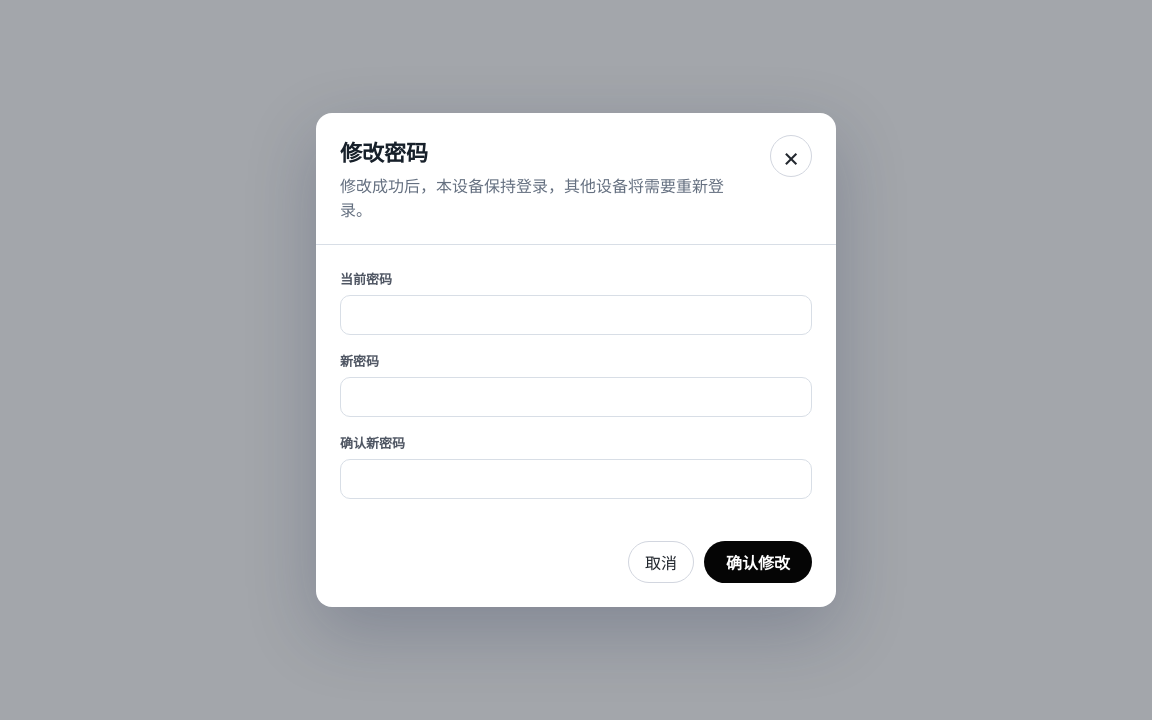
两次输入的新密码不一致时不发请求，并显示提示
The image size is (1152, 720).
Type "old-pass" into the password field labelled "当前密码". click: (576, 315)
box: 340,295 -> 812,335
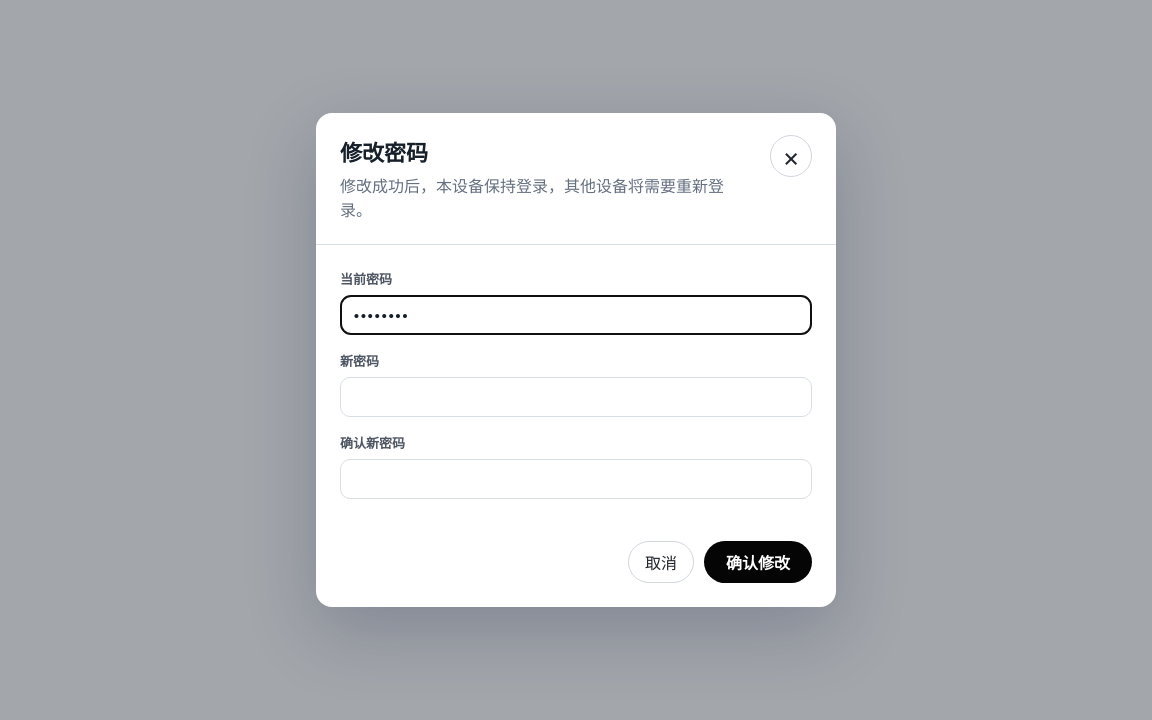
Type "new-pass-1" into the password field labelled "新密码". click: (576, 397)
box: 340,377 -> 812,417
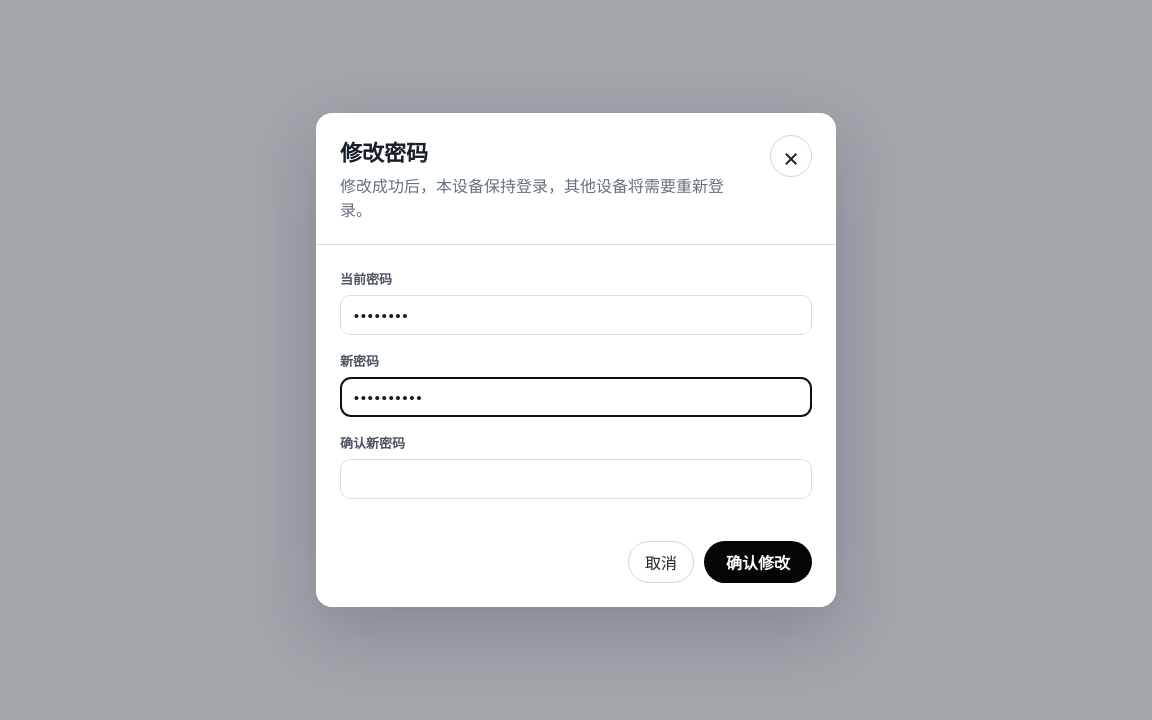
Type "new-pass-2" into the password field labelled "确认新密码". click: (576, 479)
box: 340,459 -> 812,499
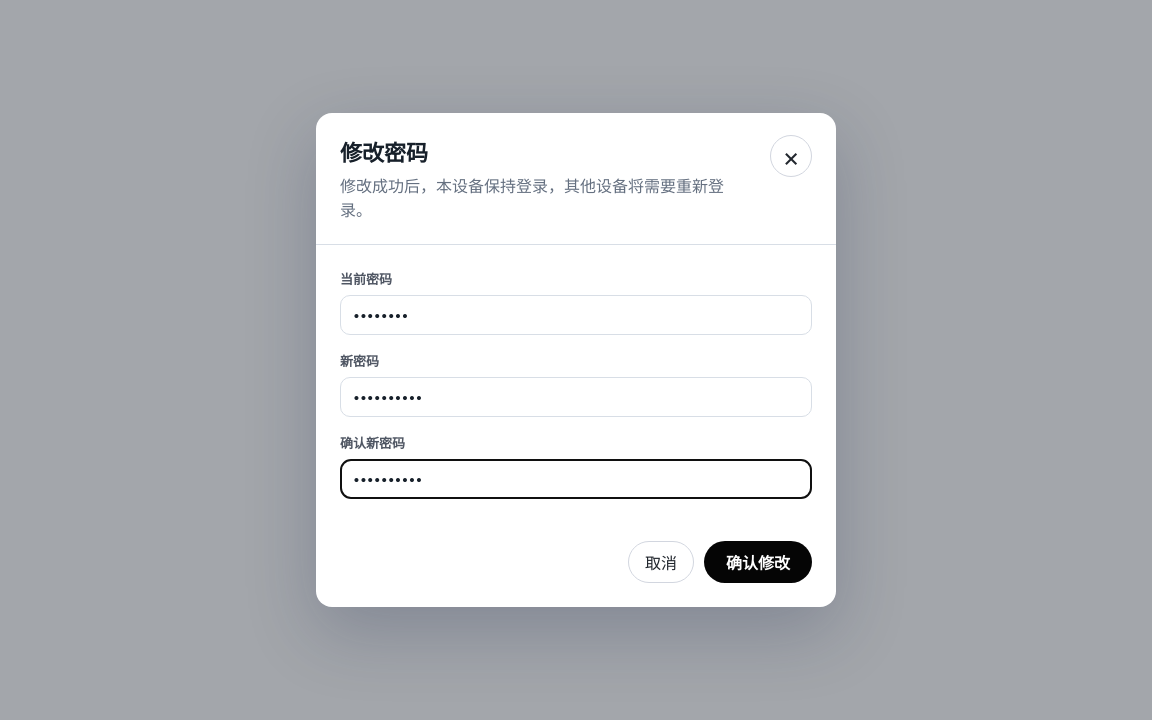
Click the button "确认修改". click: (758, 562)
box: 704,541 -> 812,583
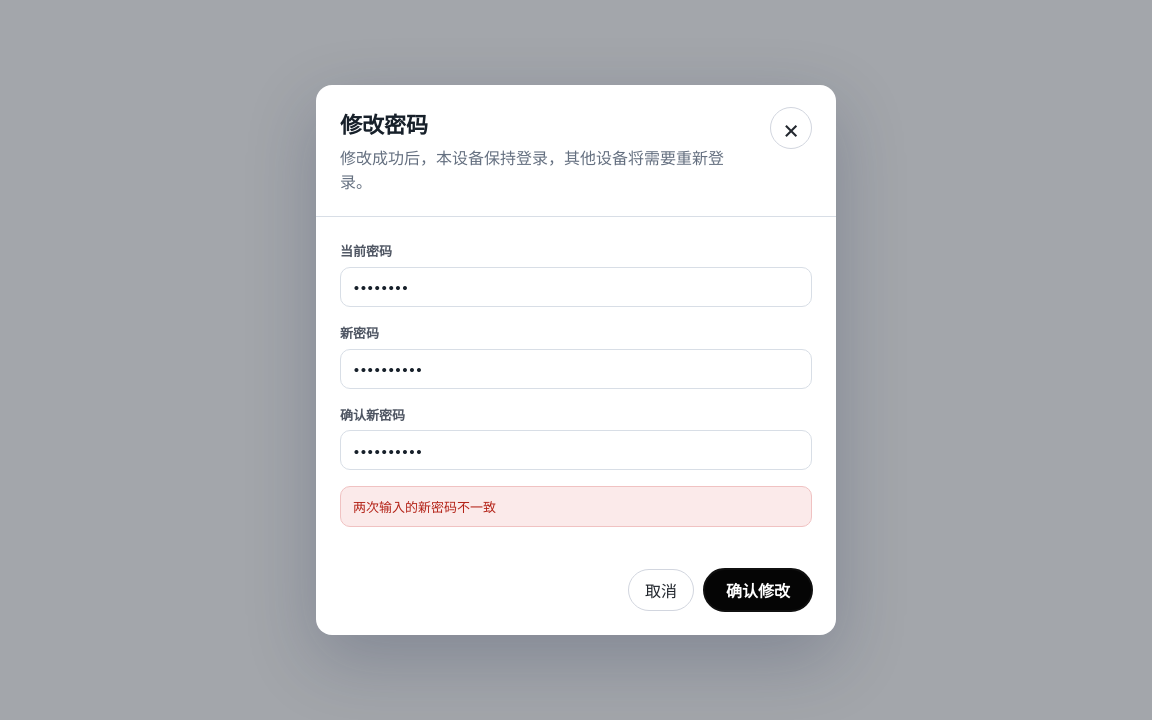
Check: the text "两次输入的新密码不一致" is shown, box 340,486 -> 812,527
